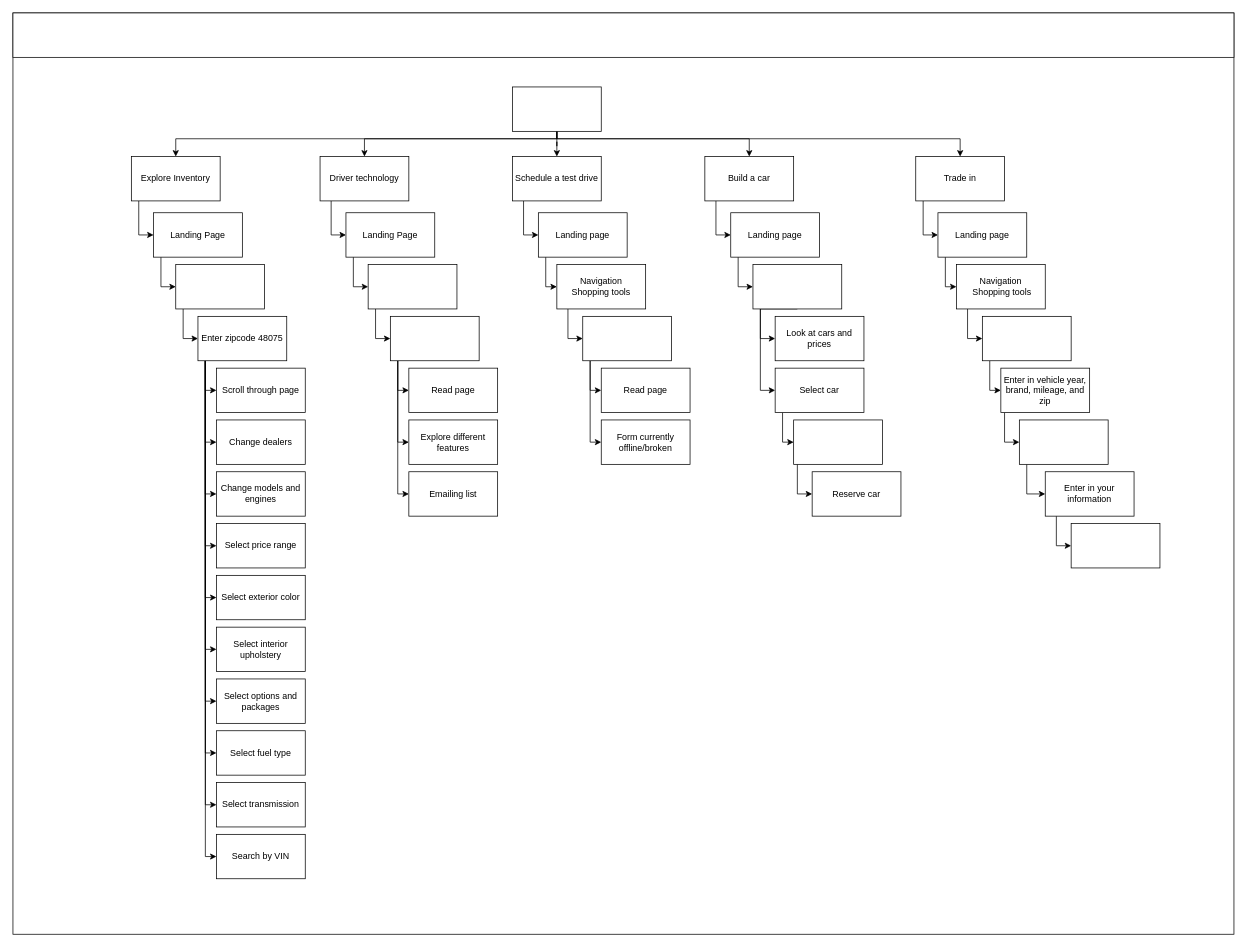
The diagram is 1247 pixels wide and 947 high, and some of its shapes have lost their labels. Each missing label, with the centre of its shape:
"Build your own": (797,286)
"Driver Technology": (434,338)
"Estimate your trade-in": (1026,338)
"Explore Inventory": (220,286)
"Get estimate": (1115,545)
"Schedule a test drive": (627,338)
Choose vehicle options: (1063,441)
Dalton Murray - Lab 4 Task Model - Human Computer Interaction: (623,34)
MiniUSA: (556,108)
Navigation Community: (412,286)
Select all features, colors, and options you want: (837,441)
